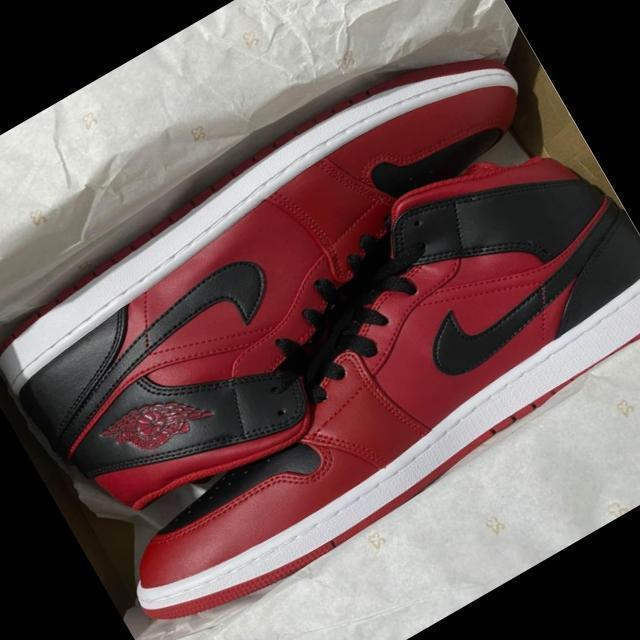nike original jordan 1: (0, 18, 619, 554), (34, 118, 640, 640)
